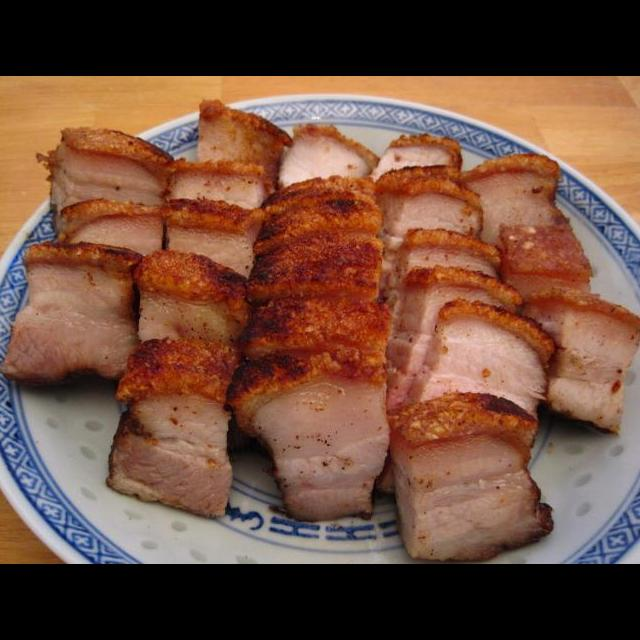thit heo quay: (219, 170, 398, 526), (372, 294, 559, 500), (380, 388, 558, 564), (377, 261, 528, 456), (99, 334, 245, 523), (0, 237, 150, 393), (31, 121, 180, 262), (514, 281, 640, 441), (368, 158, 490, 309), (127, 242, 257, 383), (380, 222, 505, 355), (187, 93, 298, 225), (453, 145, 573, 264), (50, 192, 169, 308), (161, 155, 281, 259), (490, 218, 598, 328), (160, 194, 274, 296), (265, 119, 385, 206), (362, 128, 469, 210)
